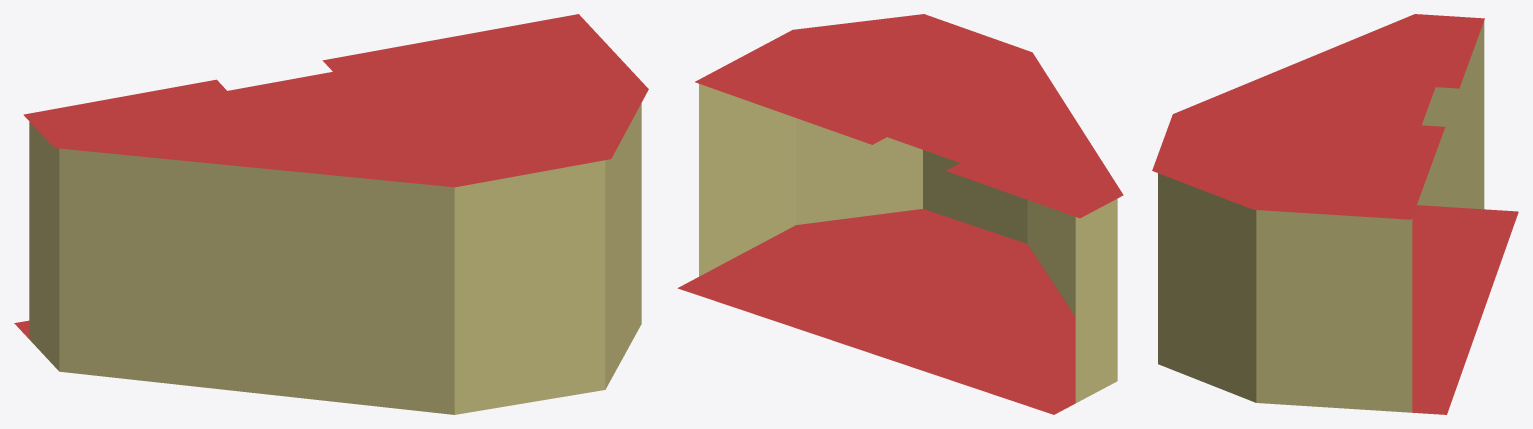
The picture shows the model from 3 angles, left to right: view 1: azimuth 30°, elevation 25°; view 2: azimuth 150°, elevation 25°; view 3: azimuth 270°, elevation 25°; orthographic projection. The views are drawn at different scales.
Size of the model in its own units: 22.11 by 16.12 by 9.48.
